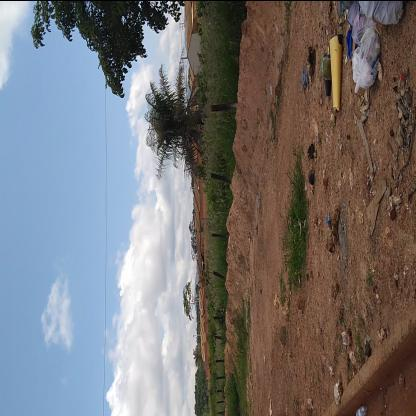lixo: (324, 0, 384, 86)
